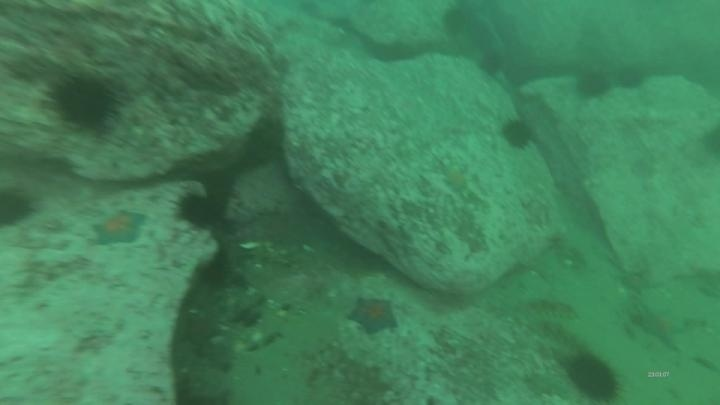echinus: (45, 71, 123, 134), (563, 350, 624, 403), (242, 114, 287, 167), (174, 190, 226, 231), (0, 185, 36, 230), (195, 255, 233, 292), (573, 67, 613, 102), (499, 116, 536, 152), (439, 4, 473, 39), (615, 63, 648, 93), (475, 48, 506, 79), (699, 122, 720, 160)
holothurian: (520, 294, 579, 321)
starfish: (635, 302, 689, 352), (90, 207, 148, 249), (345, 294, 400, 337), (438, 159, 473, 196)
